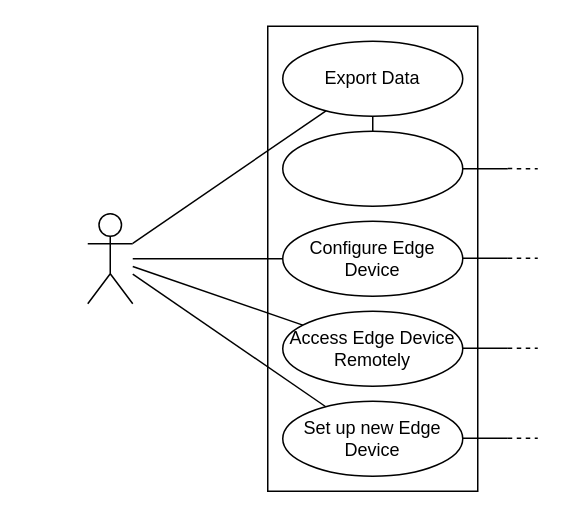
The diagram is 566 pixels wide and 518 high, and some of its shapes have lost their labels. The shapes that lost their labels are listed below. From the top down, each one's centre as x and y in pixels, then its label:
At point 372,168: "Aggregate Data".
At point 109,258: "System Administrator".
